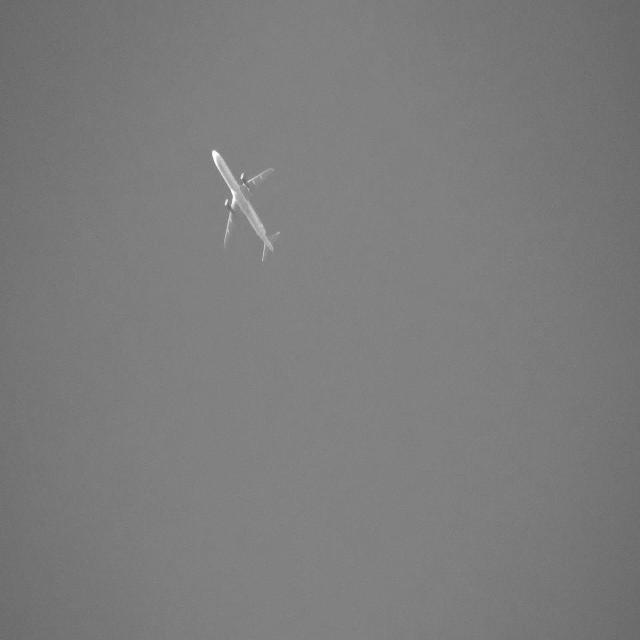aeroplane: (210, 141, 287, 270)
